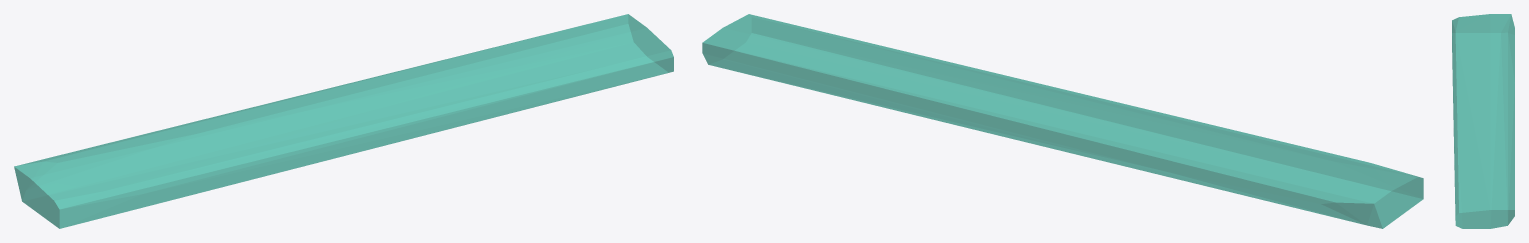
The picture shows the model from 3 angles, left to right: view 1: azimuth 30°, elevation 25°; view 2: azimuth 150°, elevation 25°; view 3: azimuth 270°, elevation 25°; orthographic projection. The views are drawn at different scales.
Parts seen in each view (by area): view 1: Shape_IndexedFaceSet.016_Shape_IndexedFaceSet.4473; view 2: Shape_IndexedFaceSet.016_Shape_IndexedFaceSet.4473; view 3: Shape_IndexedFaceSet.016_Shape_IndexedFaceSet.4473.
Boxes of the visible parts, x1,y1,x2,y2 form: Shape_IndexedFaceSet.016_Shape_IndexedFaceSet.4473: (14, 14, 673, 228); Shape_IndexedFaceSet.016_Shape_IndexedFaceSet.4473: (702, 14, 1423, 228); Shape_IndexedFaceSet.016_Shape_IndexedFaceSet.4473: (1452, 14, 1514, 228).
Bounding box in the file's own units: 0.3311 × 0.0149 × 0.0448.
